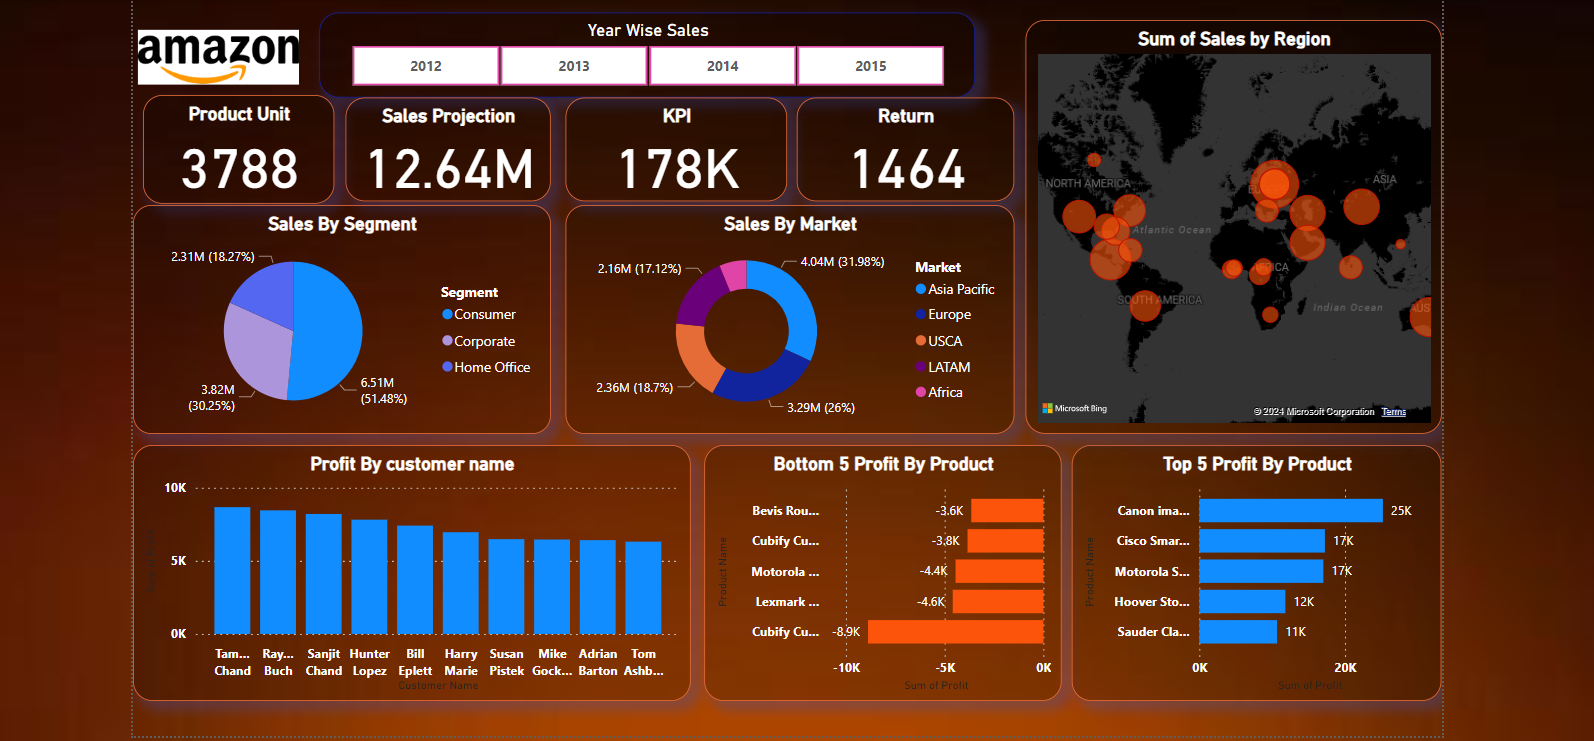

What the dashboard file says about the page in this screenshot:
{"tool":"powerbi","page":{"name":"Dashboard Report","canvas":[1280,720],"ordinal":0},"visuals":[{"type":"slicer","title":"Year Wise Sales","fields":{"Values":["Orders.Year"]},"box":[182.2,12.2,642,83.2],"z":0},{"type":"image","box":[0,19.6,167.5,73.4],"z":1000},{"type":"card","title":" Sales Projection","fields":{"Values":["Orders.Sales"]},"box":[207.9,95.4,200.5,101.5],"z":2000},{"type":"card","title":"Product Unit","fields":{"Values":["Orders.Product Name"]},"box":[9.8,92.9,187.1,106.4],"z":3000},{"type":"card","title":"KPI","fields":{"Values":["Orders.Quantity"]},"box":[423.1,95.4,216.4,101.5],"z":4000},{"type":"card","title":"Return","fields":{"Values":["Orders.Ship Date"]},"box":[649.3,95.4,212.8,101.5],"z":5000},{"type":"pieChart","title":"Sales By Segment","fields":{"Y":["Orders.Sales"],"Category":["Orders.Segment"]},"box":[0,200.5,408.4,223.8],"z":6000},{"type":"donutChart","title":"Sales By Market","fields":{"Y":["Orders.Sales"],"Category":["Orders.Market"]},"box":[423.1,200.5,439,223.8],"z":7000},{"type":"columnChart","title":"Profit By customer name","fields":{"Y":["Orders.Profit"],"Category":["Orders.Customer Name"]},"box":[0,435.3,545.4,250.7],"z":8000},{"type":"clusteredBarChart","title":"Bottom 5 Profit By Product","fields":{"Y":["Orders.Profit"],"Category":["Orders.Product Name"]},"box":[558.8,435.3,349.7,250.7],"z":9000},{"type":"clusteredBarChart","title":"Top 5 Profit By Product","fields":{"Y":["Orders.Profit"],"Category":["Orders.Product Name"]},"box":[918.3,435.3,362,250.7],"z":10000},{"type":"map","fields":{"Category":["Orders.Region"],"Size":["Orders.Sales"]},"box":[873.1,19.6,407.2,404.8],"z":11000}]}

Visuals, with their boxes on the page's 1280x720 design canvas (x1, y1, x2, y2). These are canvas units, not pixel positions in the 1594x741 screenshot, which may show the page scaled, cropped or inside an application window:
"Year Wise Sales" slicer: rect(182, 12, 824, 95)
image: rect(0, 20, 168, 93)
" Sales Projection" card: rect(208, 95, 408, 197)
"Product Unit" card: rect(10, 93, 197, 199)
"KPI" card: rect(423, 95, 640, 197)
"Return" card: rect(649, 95, 862, 197)
"Sales By Segment" pieChart: rect(0, 200, 408, 424)
"Sales By Market" donutChart: rect(423, 200, 862, 424)
"Profit By customer name" columnChart: rect(0, 435, 545, 686)
"Bottom 5 Profit By Product" clusteredBarChart: rect(559, 435, 908, 686)
"Top 5 Profit By Product" clusteredBarChart: rect(918, 435, 1280, 686)
map - Orders.Region x Orders.Sales: rect(873, 20, 1280, 424)
